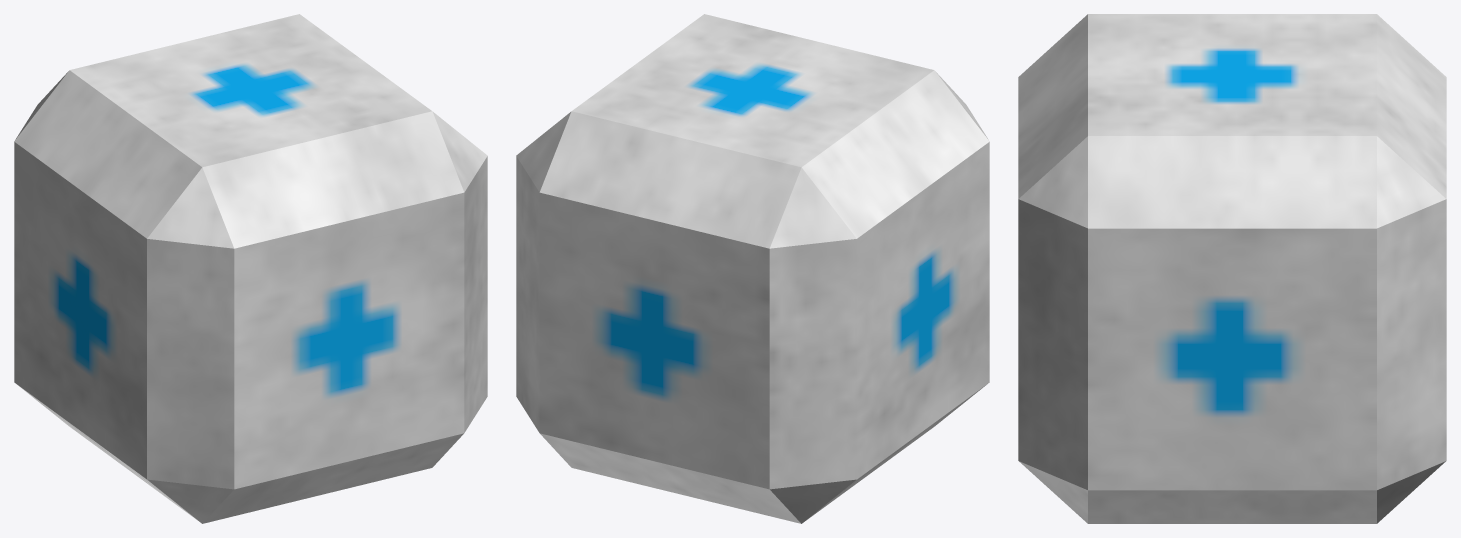
File: upgrade.fbx
The picture shows the model from 3 angles, left to right: view 1: azimuth 30°, elevation 25°; view 2: azimuth 150°, elevation 25°; view 3: azimuth 270°, elevation 25°; orthographic projection. The views are drawn at different scales.
Parts seen in each view (by area): view 1: Cube; view 2: Cube; view 3: Cube.
Part boxes in pixels (bbox=[...]): Cube: bbox=[14, 14, 487, 523]; Cube: bbox=[516, 14, 989, 523]; Cube: bbox=[1018, 14, 1446, 523].
Bounding box in the file's own units: 2 × 2 × 2.
